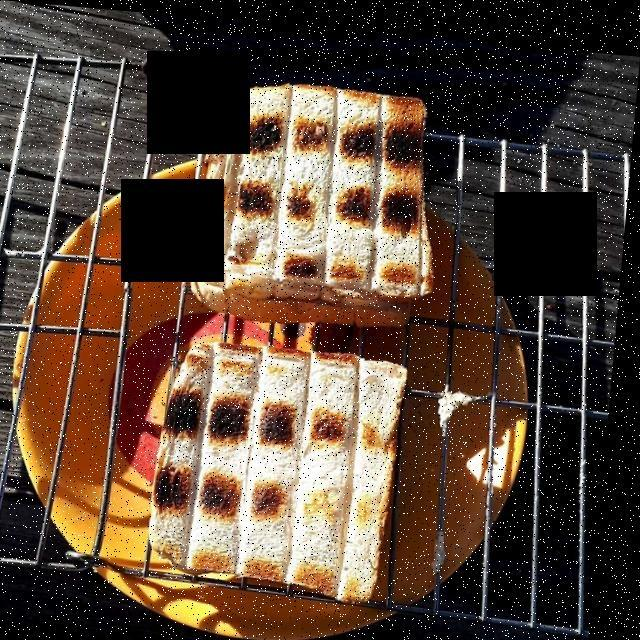bread: (168, 79, 439, 584)
